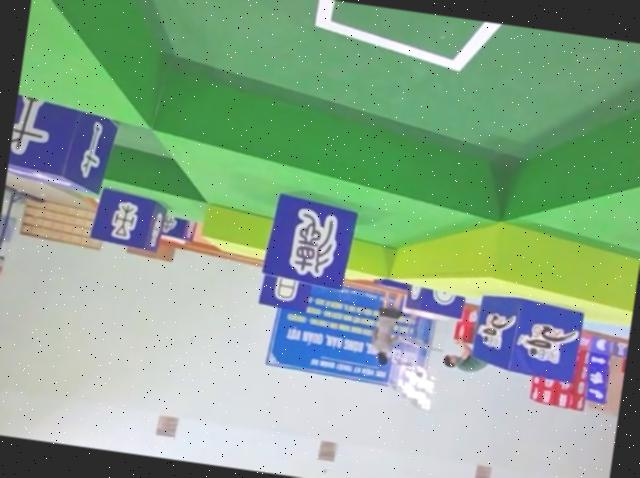R1 Blue: (471, 291, 585, 382)
R2 Fake Blue: (261, 189, 360, 290), (258, 271, 312, 312)
R2 Real Blue: (5, 93, 121, 197), (89, 185, 170, 253), (399, 282, 467, 322)
